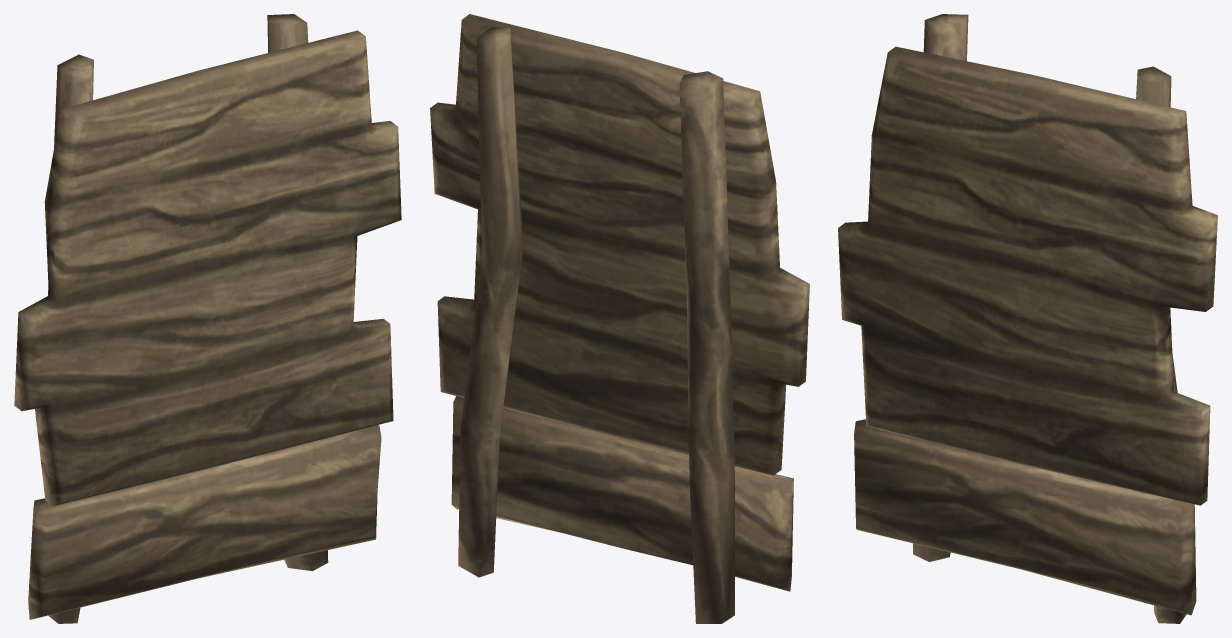
File: beach mini ramp.FBX
3 renders of one model, left to right at view 1: azimuth 30°, elevation 25°; view 2: azimuth 150°, elevation 25°; view 3: azimuth 330°, elevation 25°, orthographic. The views are drawn at different scales.
Visible parts, largest first — view 1: beach mini ramp; view 2: beach mini ramp; view 3: beach mini ramp.
Boxes of the visible parts, x1,y1,x2,y2 form: beach mini ramp: [14, 14, 401, 623]; beach mini ramp: [430, 14, 809, 623]; beach mini ramp: [838, 14, 1217, 623].
Bounding box in the file's own units: 1.59 × 2.25 × 0.3217.
